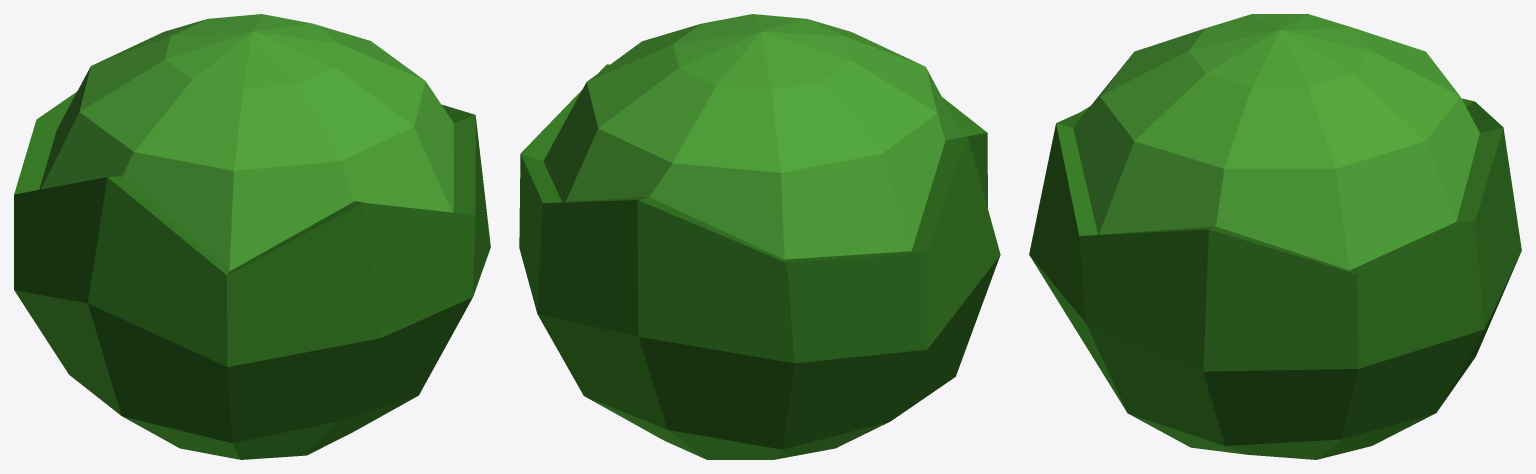
3 renders of one model, left to right at view 1: azimuth 30°, elevation 25°; view 2: azimuth 150°, elevation 25°; view 3: azimuth 270°, elevation 25°, orthographic.
Parts seen in each view (by area): view 1: Cabbage_Sphere.019; view 2: Cabbage_Sphere.019; view 3: Cabbage_Sphere.019.
Boxes of the visible parts, left/top/right/bottom form: Cabbage_Sphere.019: left=14, top=14, right=490, bottom=459; Cabbage_Sphere.019: left=519, top=14, right=1000, bottom=459; Cabbage_Sphere.019: left=1029, top=14, right=1521, bottom=459.
Size of the model in its own units: 4.92 by 4.5 by 5.13.
Materials: 1 (1 with a texture image).
